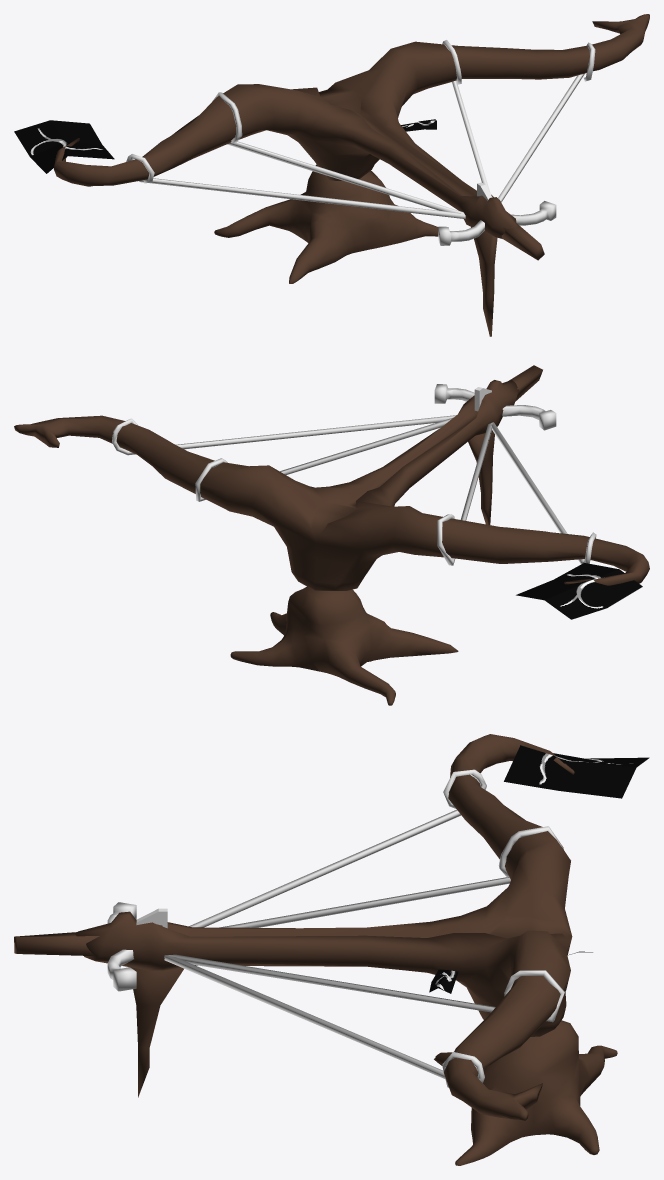
Rendered from meshBallista.fbx.
3 views of the same model, one above another, from view 1: azimuth 30°, elevation 25°; view 2: azimuth 150°, elevation 25°; view 3: azimuth 270°, elevation 25° (orthographic). The views are drawn at different scales.
Parts seen in each view (by area): view 1: Cube.008; view 2: Cube.008; view 3: Cube.008.
Boxes of the visible parts, <box> form: Cube.008: <box>14,14,649,336</box>; Cube.008: <box>14,365,649,705</box>; Cube.008: <box>14,734,649,1165</box>.
Bounding box in the file's own units: 169 × 45.39 × 119.
